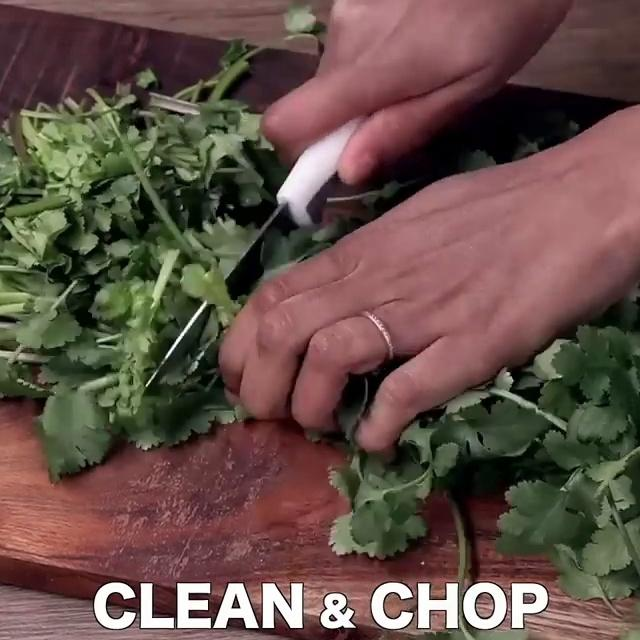cilantro: (483, 356, 640, 590)
